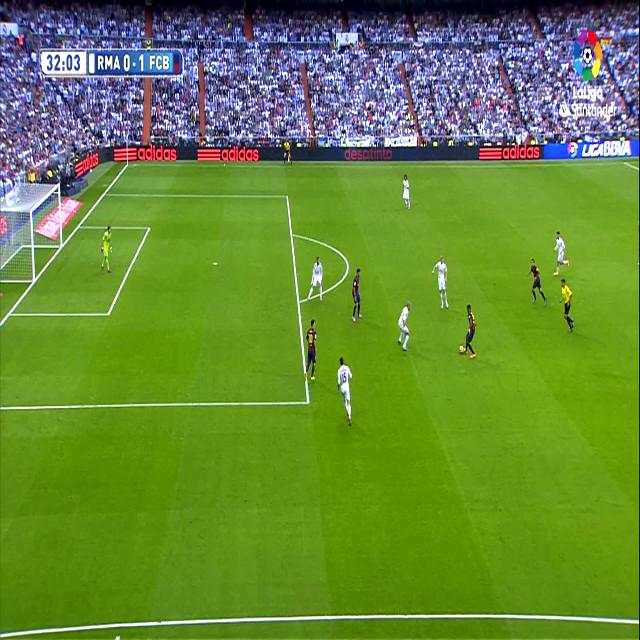bigarea_bottom_inner: (300, 389, 312, 412)
bigarea_top_inner: (146, 222, 152, 233)
smallarea_bottom_outter: (5, 304, 13, 322)
smallarea_top_outter: (76, 220, 82, 231)
